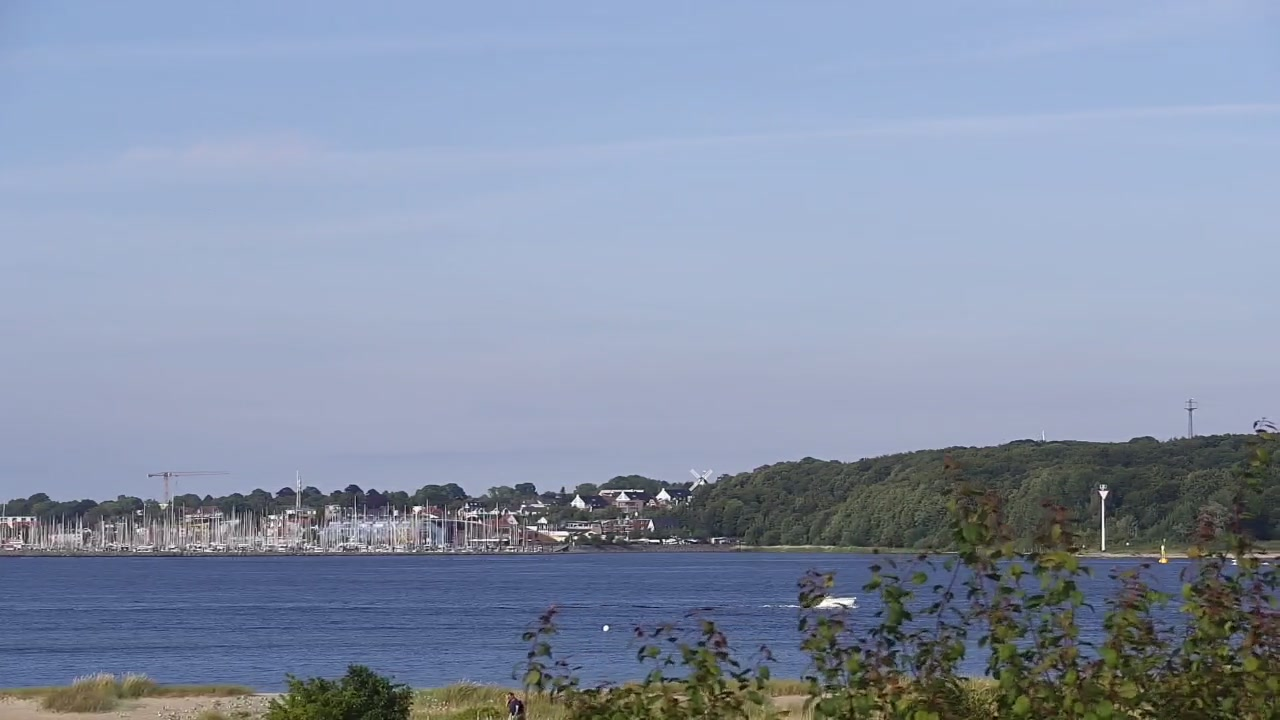human: (504, 691, 526, 720)
sea: (813, 593, 857, 609)
